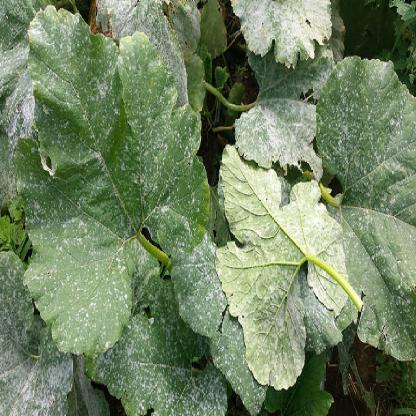Squash Powdery mildew leaf: (22, 1, 212, 352), (214, 139, 351, 398), (316, 45, 416, 362), (232, 1, 336, 176)
